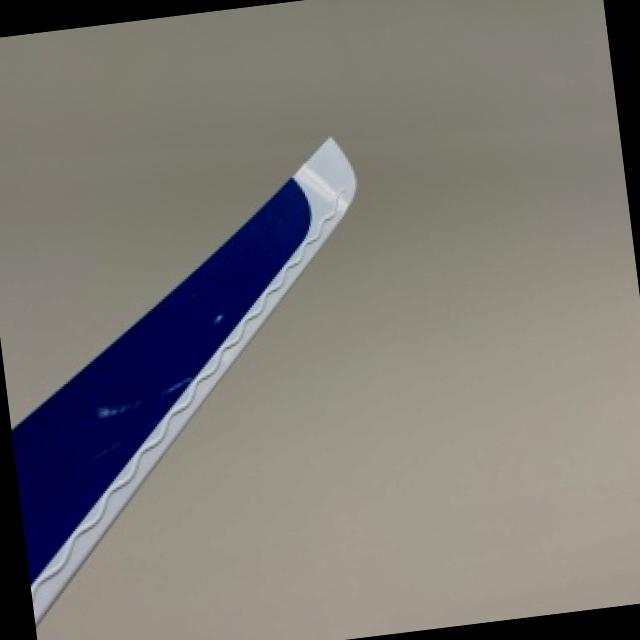healthy: (11, 136, 353, 619)
